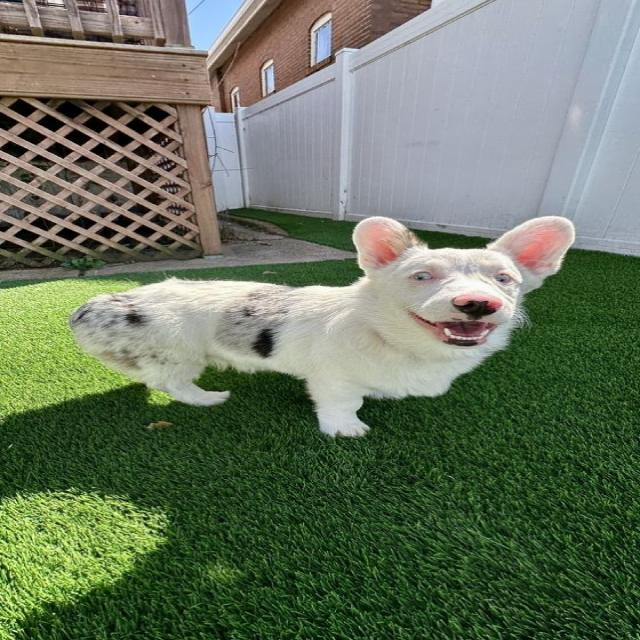corgi_dog: (330, 201, 583, 358)
